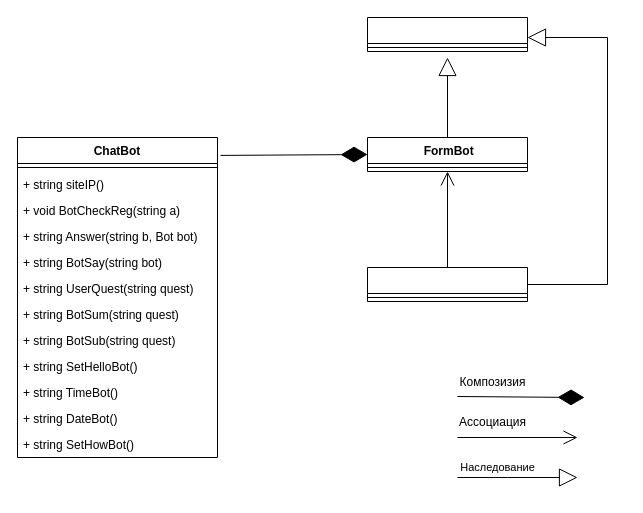
Some shapes in this 643 by 513 pixel diagram are drawn without their labels. The shapes that lost their labels are listed below. From the top down, each one's centre as x and y in pixels, then its label:
pixel 447 34: Form
pixel 447 284: FormLogin
